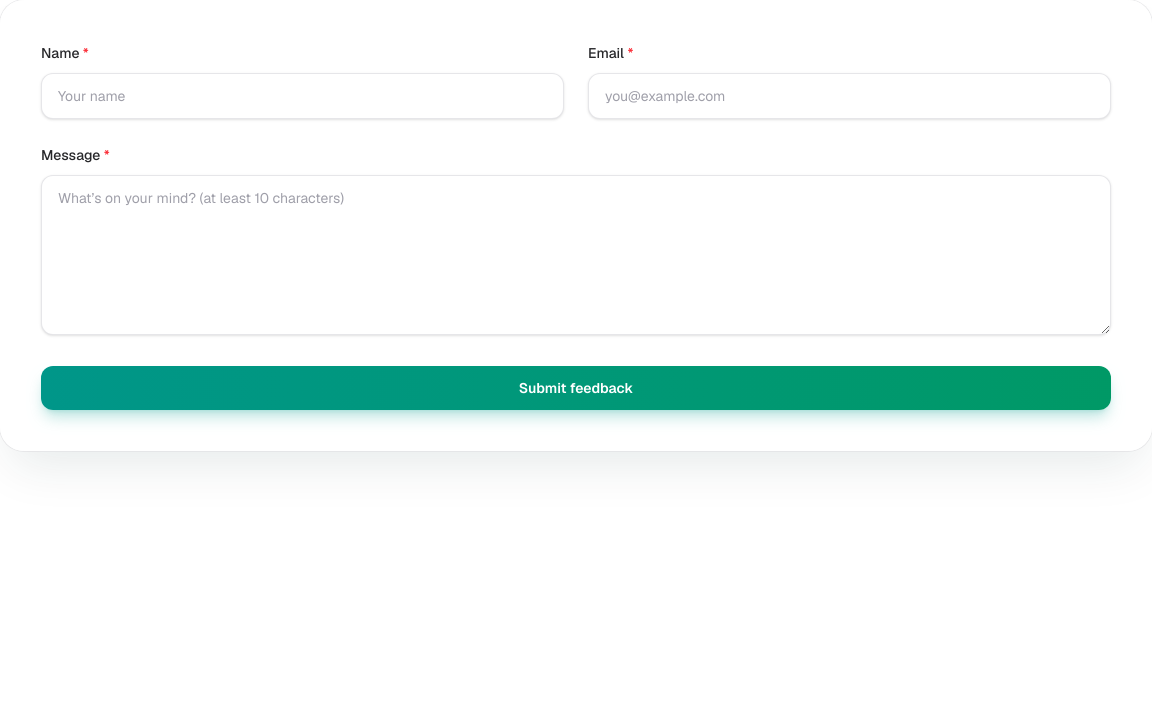
Scenario: FeedbackForm › submits valid data and shows success
This screenshot has width=1152, height=720.
Type "Sam" into the field labelled "Name *" at (302, 96), box [41,73,564,119]
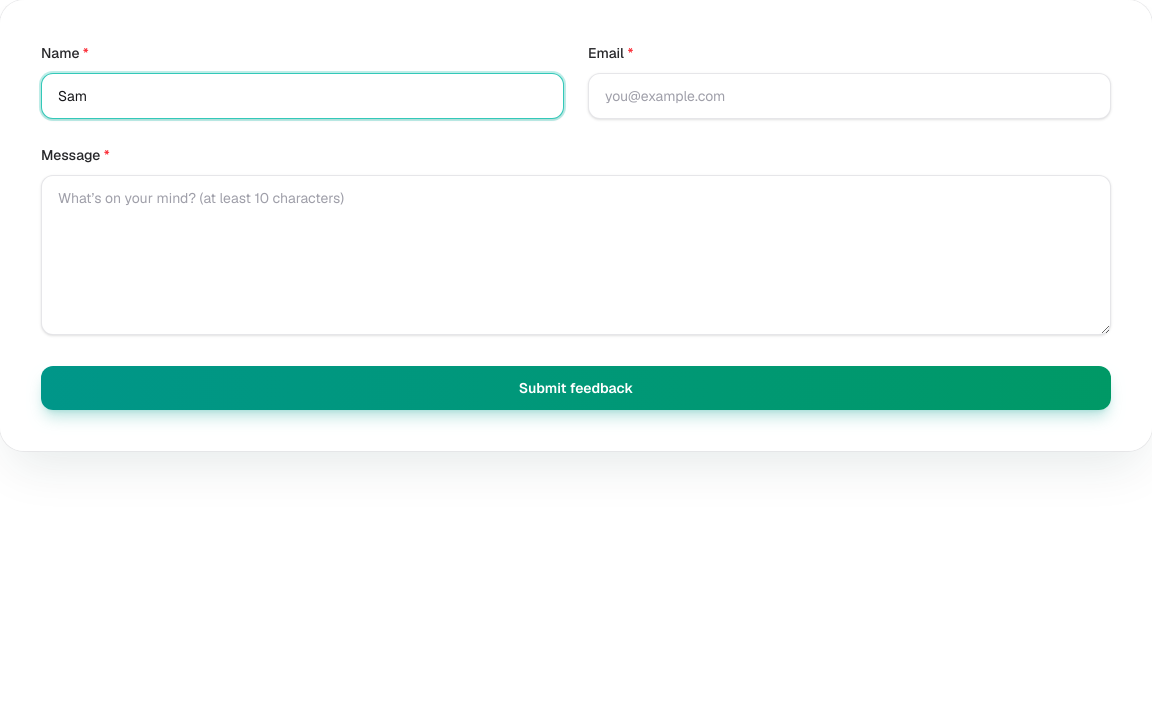
Type "sam@example.com" into the field labelled "Email *" at (850, 96), box [588,73,1111,119]
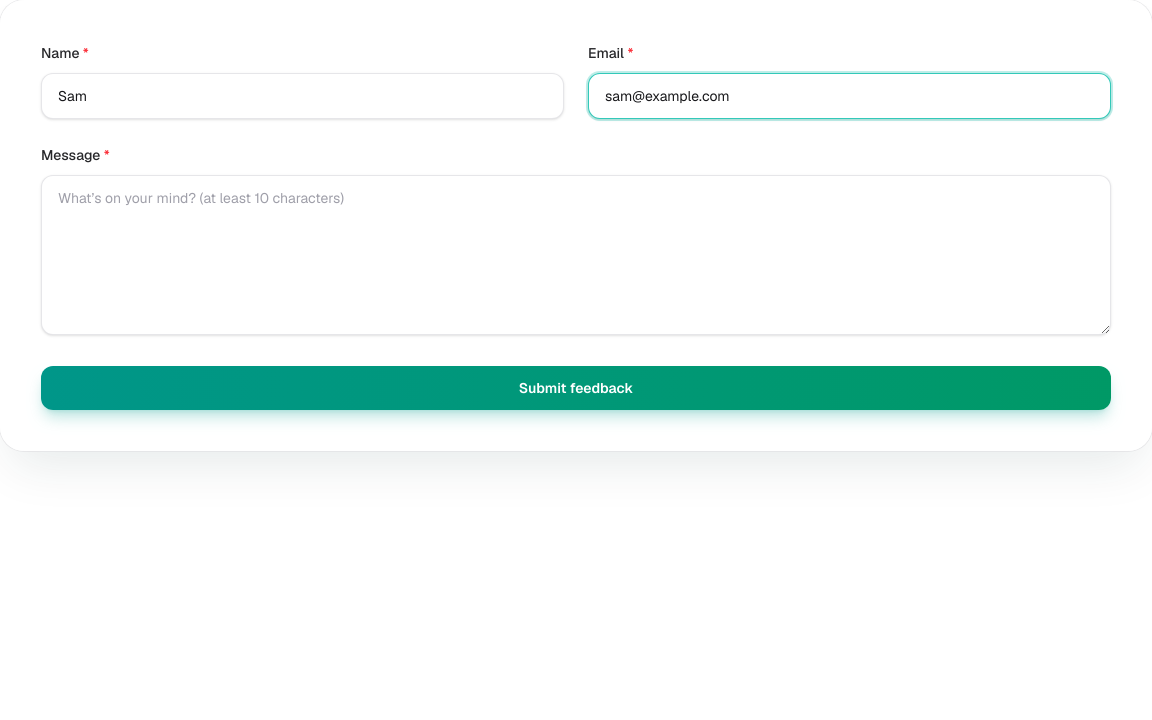
Type "This is ten chars min" into the text box labelled "Message *" at (576, 255), box [41,175,1111,335]
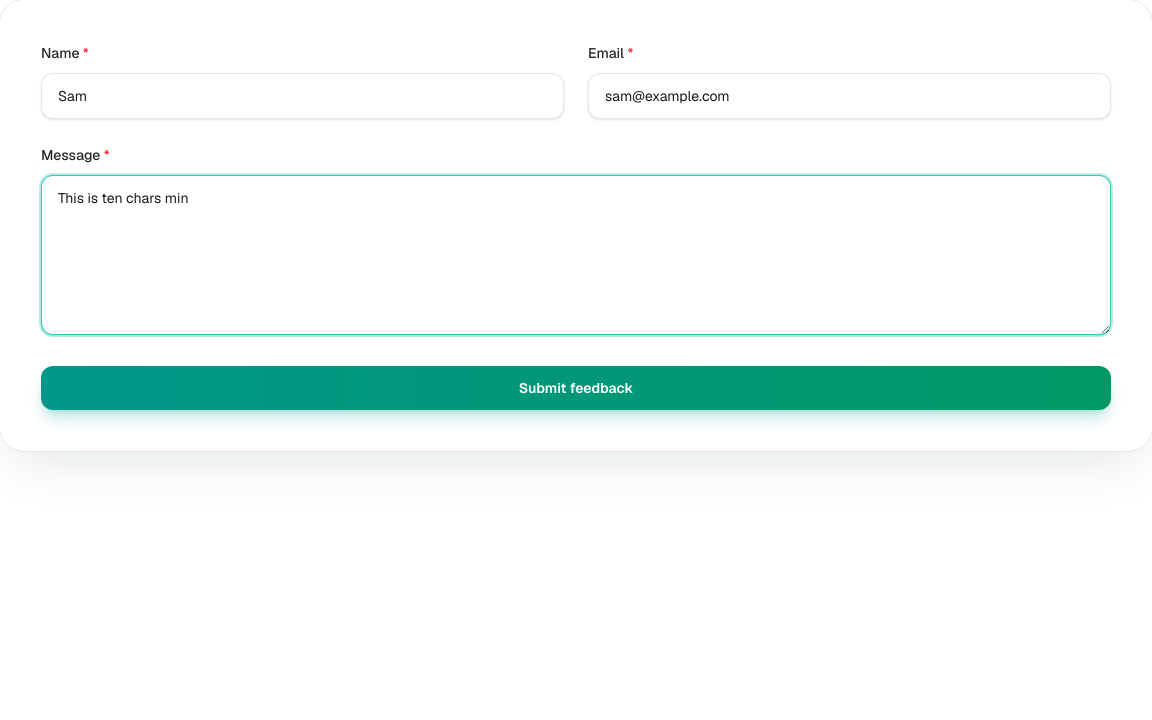
Click the button "Submit feedback" at (576, 388), box [41,366,1111,410]
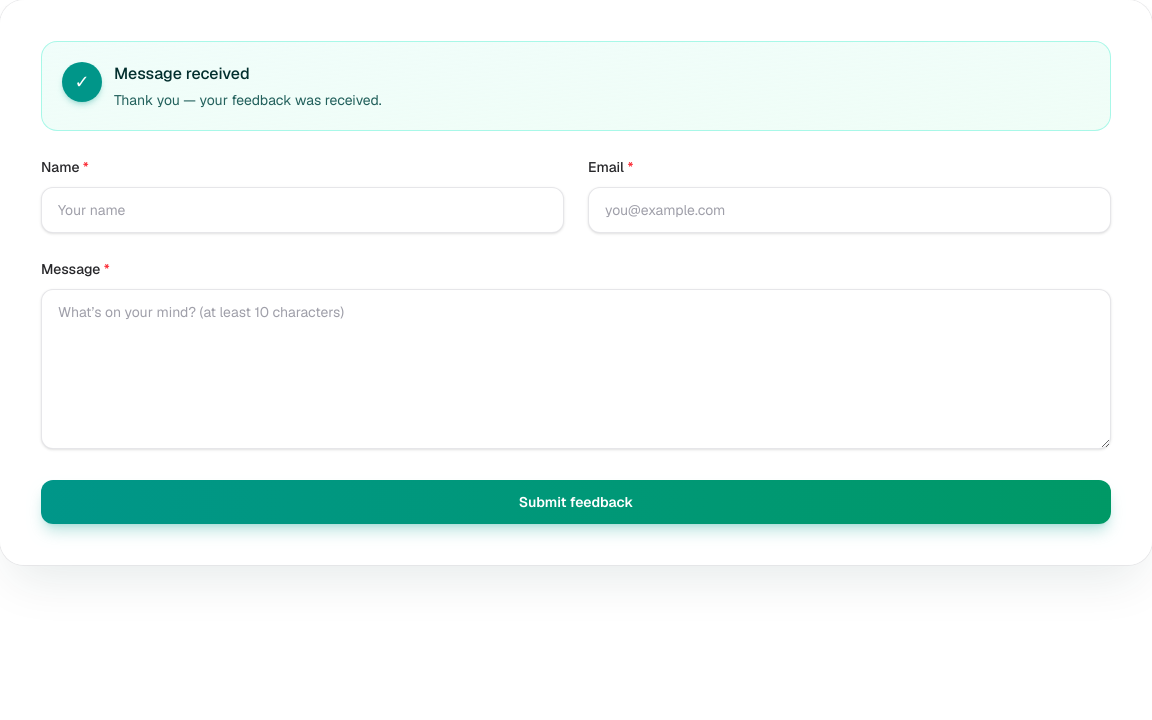
Expected: the message "✓ Message received Thank you — your feedback was received." is shown, [41,41,1111,131]
